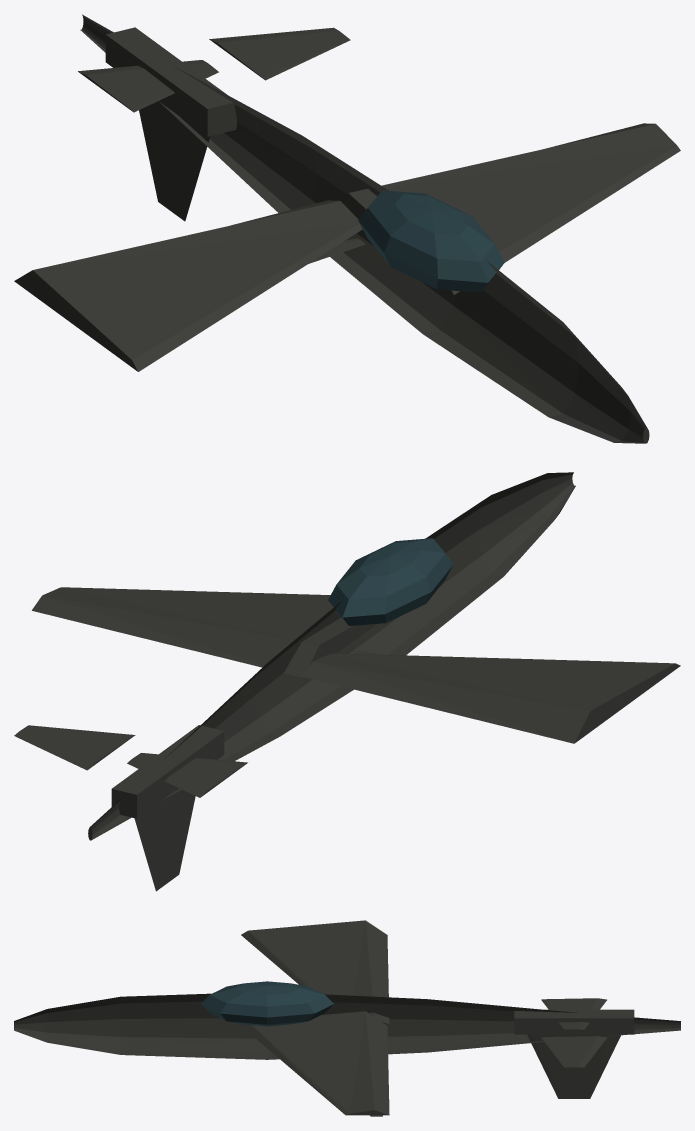
Rendered from f15_Destroyed.glb.
3 renders of one model, top to bottom at view 1: azimuth 30°, elevation 25°; view 2: azimuth 150°, elevation 25°; view 3: azimuth 270°, elevation 25°, orthographic. The views are drawn at different scales.
Visible parts, largest first — view 1: Fuselage, Wing_L, Wing_R, Cockpit, TailBoom, Rudder, Elevator_R, Elevator_L; view 2: Fuselage, Wing_L, Wing_R, Cockpit, TailBoom, Rudder, Elevator_R, Elevator_L; view 3: Fuselage, Wing_R, Wing_L, Cockpit, TailBoom, Rudder, Elevator_R, Elevator_L.
Boxes of the visible parts, bbox=[...] form: Fuselage: bbox=[80, 14, 649, 443]; Wing_L: bbox=[14, 200, 362, 371]; Wing_R: bbox=[336, 123, 680, 294]; Cockpit: bbox=[358, 190, 504, 292]; TailBoom: bbox=[105, 27, 236, 136]; Rudder: bbox=[139, 101, 210, 221]; Elevator_R: bbox=[209, 27, 350, 80]; Elevator_L: bbox=[78, 60, 218, 112]; Fuselage: bbox=[88, 472, 575, 840]; Wing_L: bbox=[302, 653, 680, 743]; Wing_R: bbox=[32, 587, 376, 677]; Cockpit: bbox=[328, 538, 453, 625]; TailBoom: bbox=[111, 725, 224, 818]; Rudder: bbox=[134, 788, 195, 891]; Elevator_R: bbox=[14, 725, 135, 770]; Elevator_L: bbox=[127, 753, 247, 797]; Fuselage: bbox=[14, 993, 680, 1059]; Wing_R: bbox=[241, 1011, 389, 1115]; Wing_L: bbox=[241, 920, 389, 1024]; Cockpit: bbox=[201, 981, 333, 1026]; TailBoom: bbox=[514, 1009, 634, 1034]; Rudder: bbox=[527, 1034, 620, 1098]; Elevator_R: bbox=[541, 1036, 607, 1067]; Elevator_L: bbox=[541, 998, 606, 1029].
Bounding box in the file's own units: 12.53 × 3.63 × 19.43.
